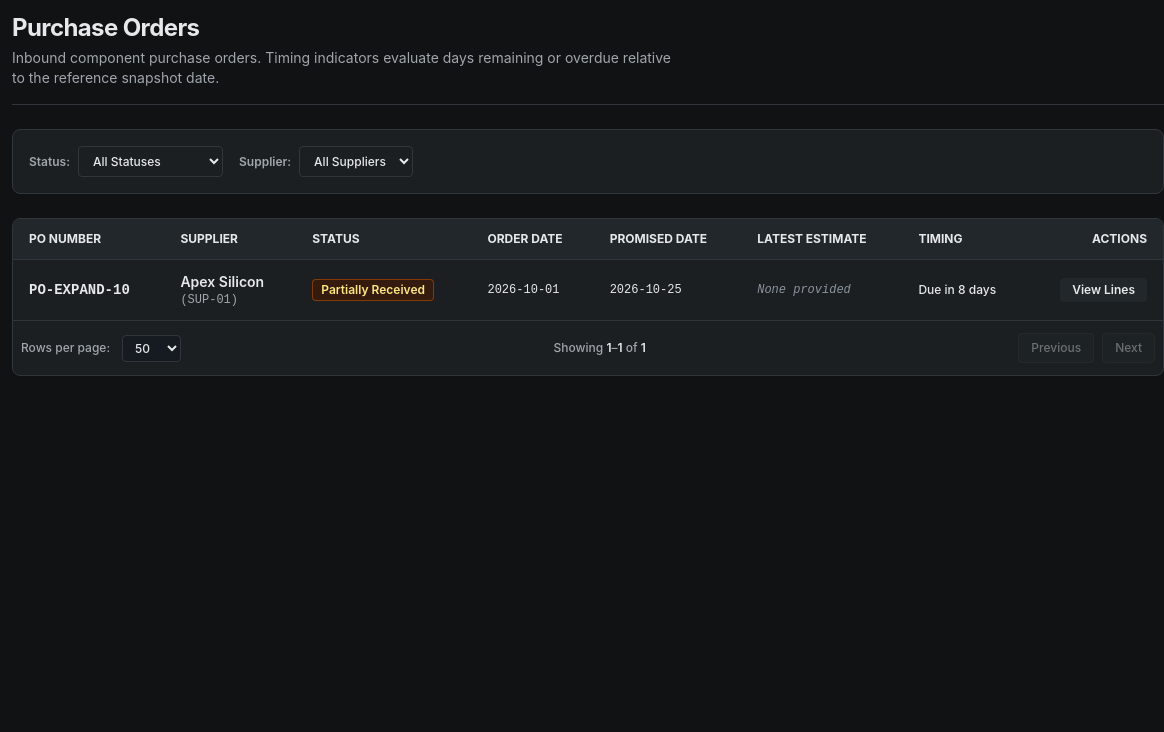
PurchaseOrdersPage › row expansion toggles and renders lines with remaining quantity
Click the button with test id "toggle-po-10".
click(1104, 290)  # box [1060, 278, 1147, 302]
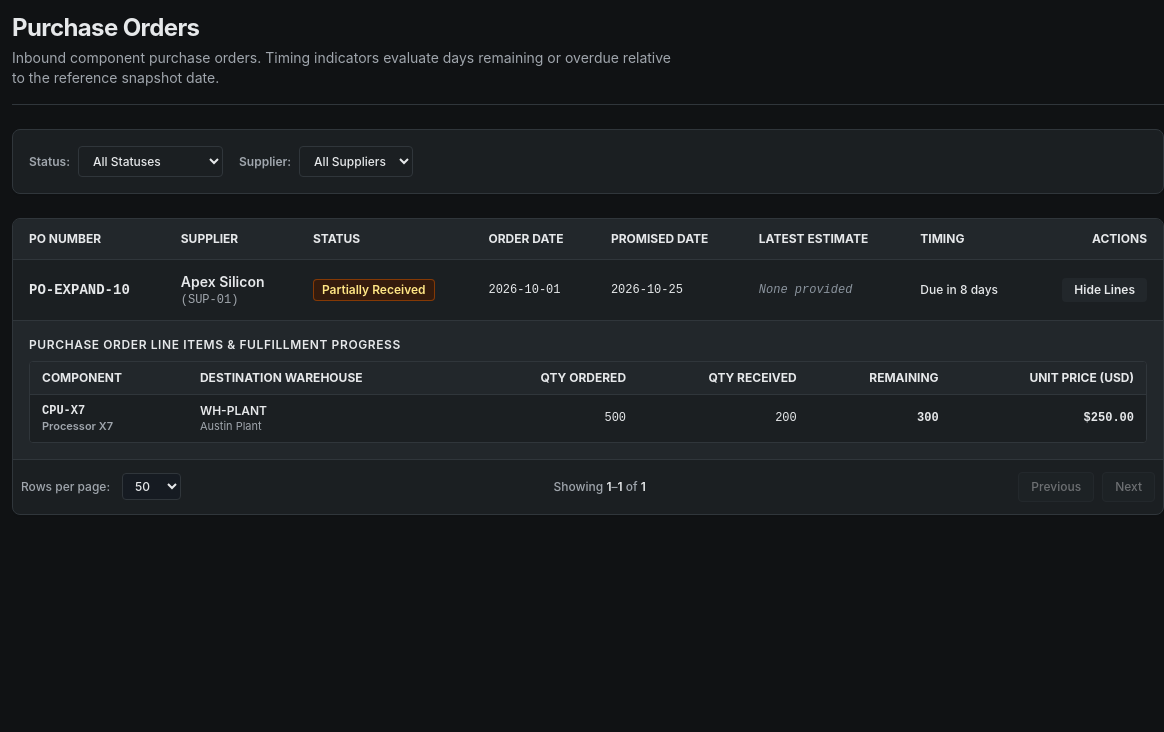
Result: the button with test id "toggle-po-10" is expanded at [1062, 278, 1147, 302]
Result: the element with test id "lines-table-10" is shown at [29, 337, 1147, 443]
Result: the cell with test id "remaining-101" reads "300" at [917, 411, 939, 425]
